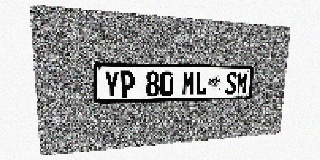0: (160, 71, 173, 97)
8: (146, 71, 160, 97)
L: (195, 71, 208, 96)
M: (182, 71, 195, 96), (236, 72, 248, 94)
P: (120, 71, 134, 98)
S: (225, 72, 237, 95)
Y: (104, 71, 119, 98)
